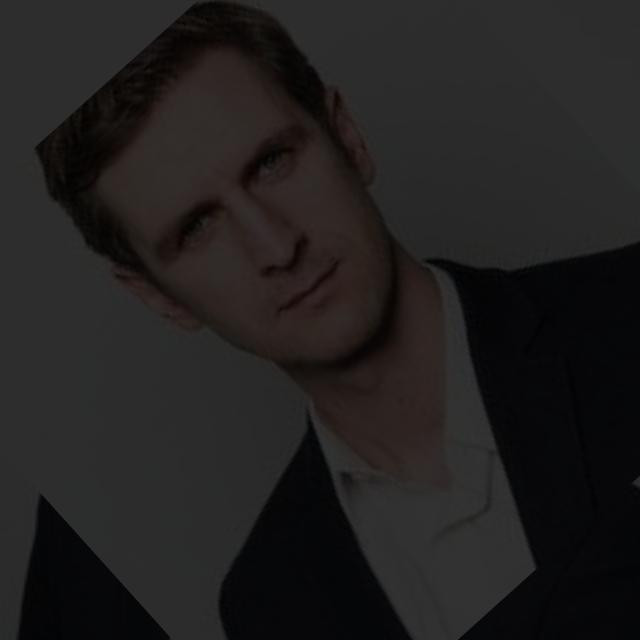Natural: (80, 58, 442, 417)
